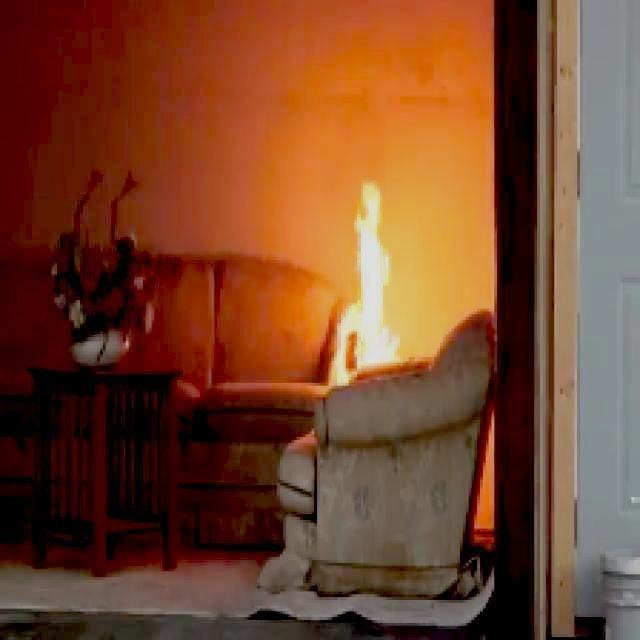fire: (325, 164, 408, 364)
